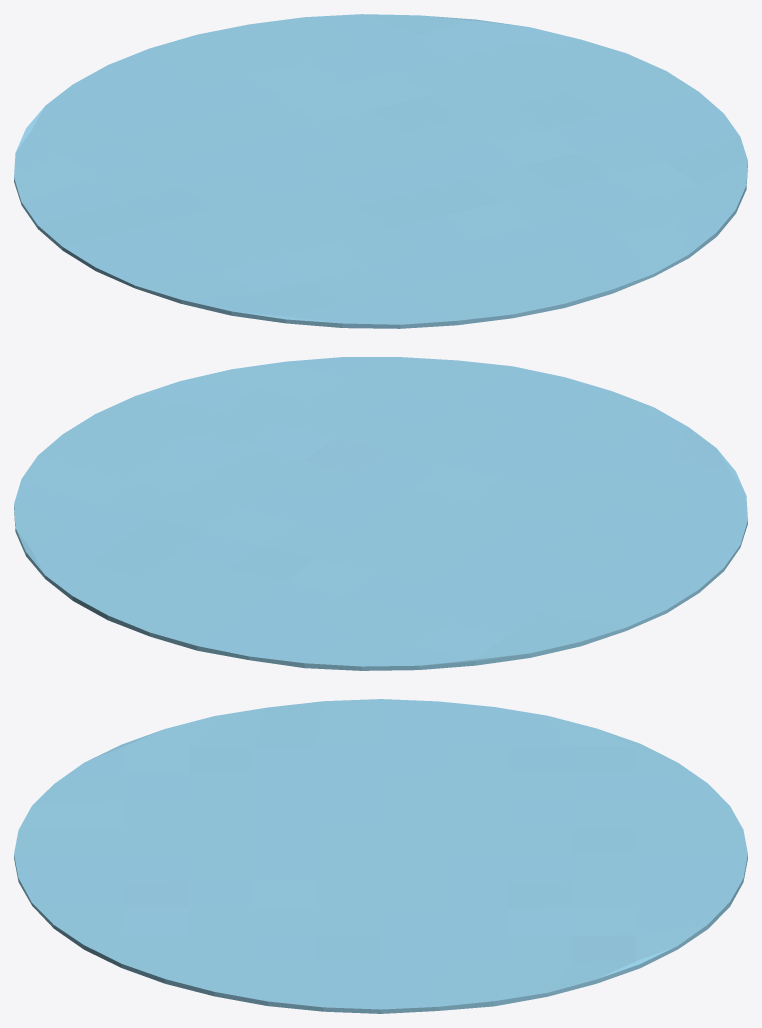
The model's file is LL_WATER.fbx.
The picture shows the model from 3 angles, top to bottom: view 1: azimuth 30°, elevation 25°; view 2: azimuth 150°, elevation 25°; view 3: azimuth 270°, elevation 25°; orthographic projection.
Visible parts, largest first — view 1: Water; view 2: Water; view 3: Water.
Boxes of the visible parts, box(x1,y1,x2,y2) form: Water: box(14, 14, 747, 328); Water: box(14, 357, 747, 670); Water: box(14, 699, 747, 1013).
Size of the model in its own units: 12580 by 121 by 12580.
